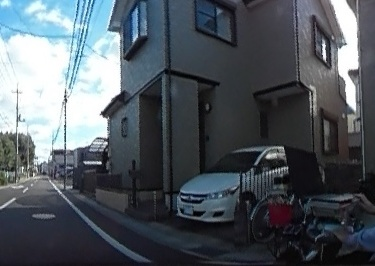person: (337, 76, 375, 266)
